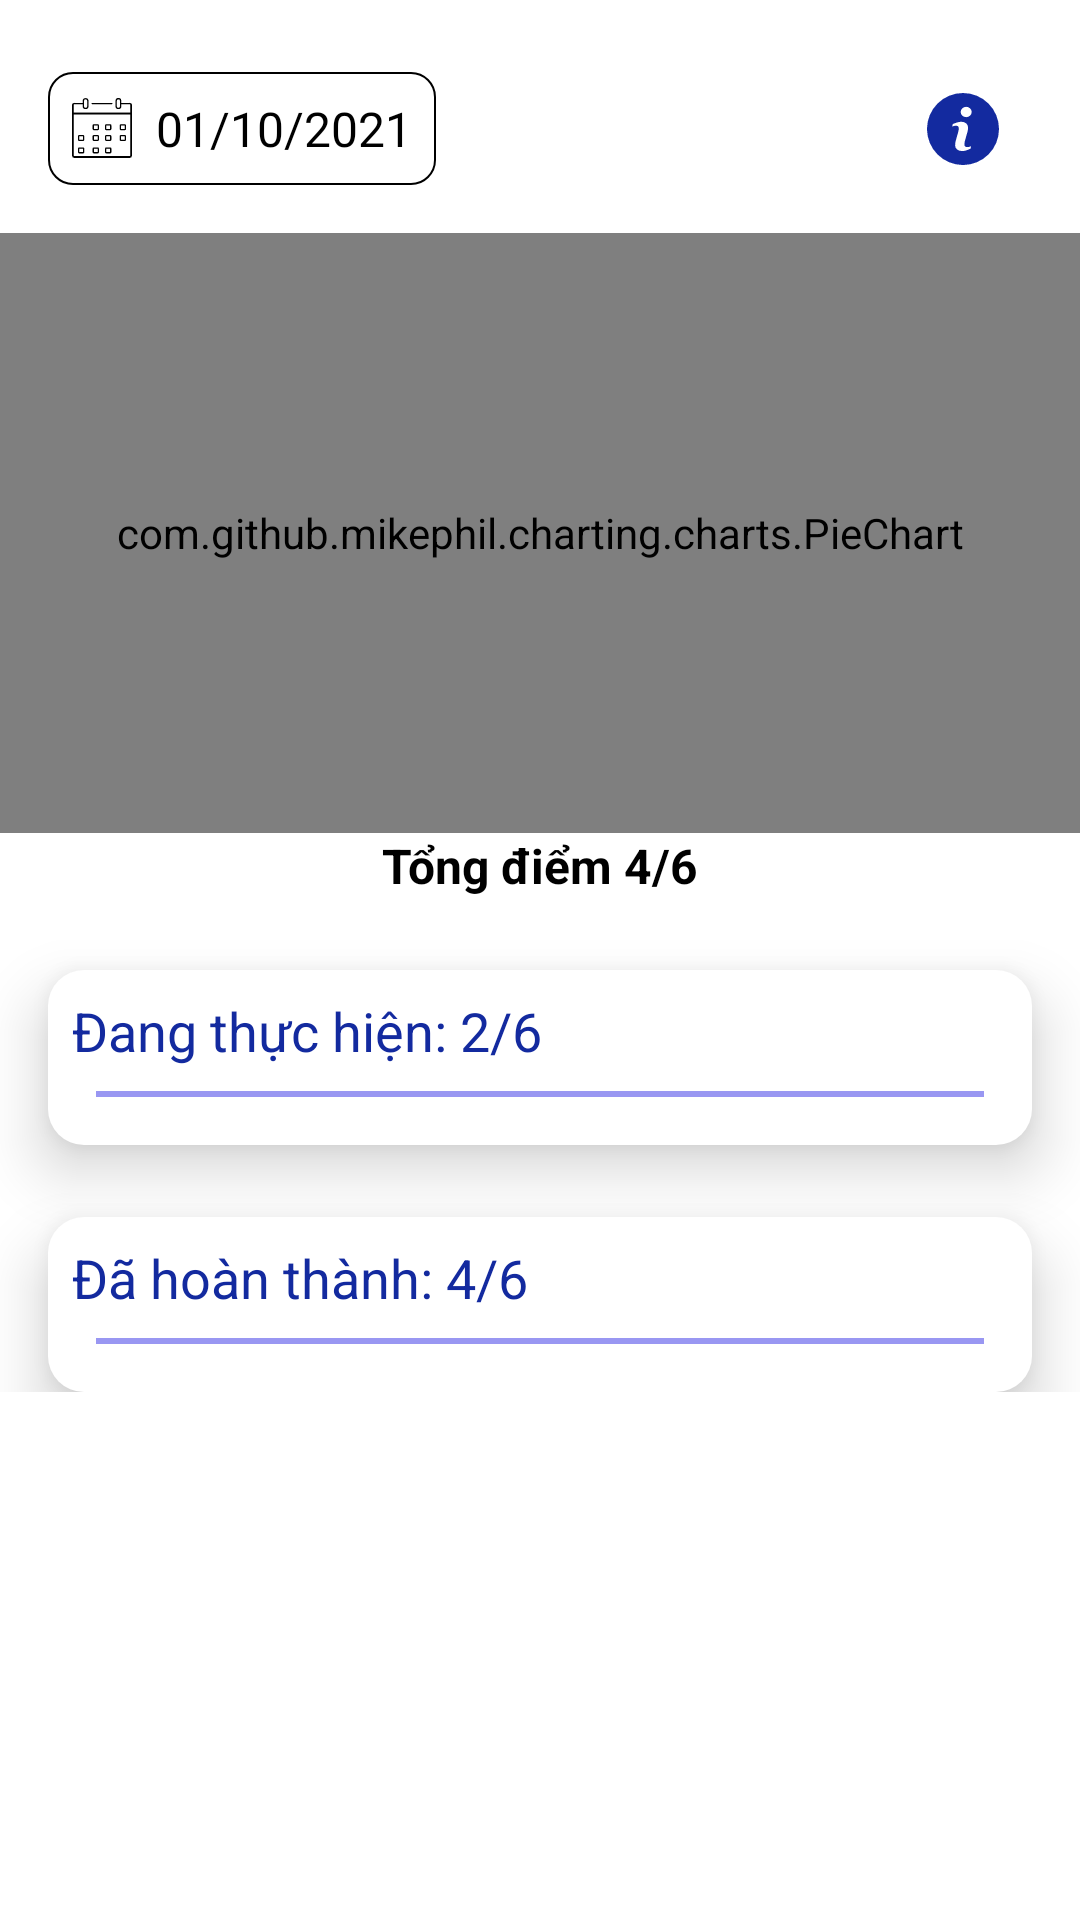

Screen size 1080*1920. Icon name, then its center in pixels as (x=x, y=y):
information: (x=963, y=129)
